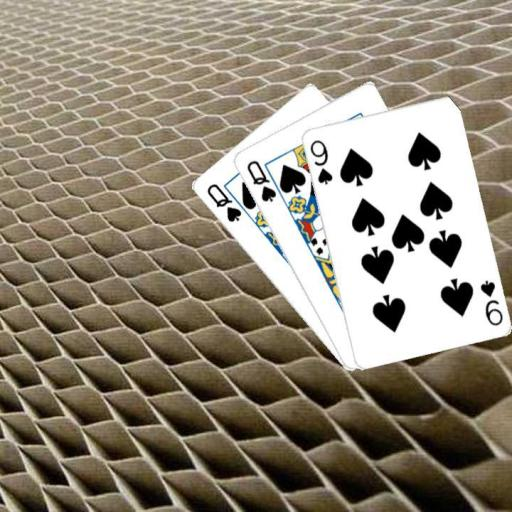9S: (307, 137, 334, 187), (477, 277, 504, 327)
QS: (204, 180, 244, 224), (244, 157, 278, 204)
